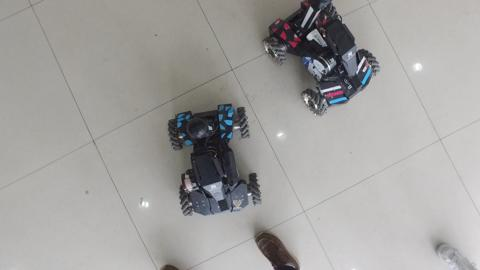chariot: (257, 1, 385, 121), (162, 95, 265, 225)
